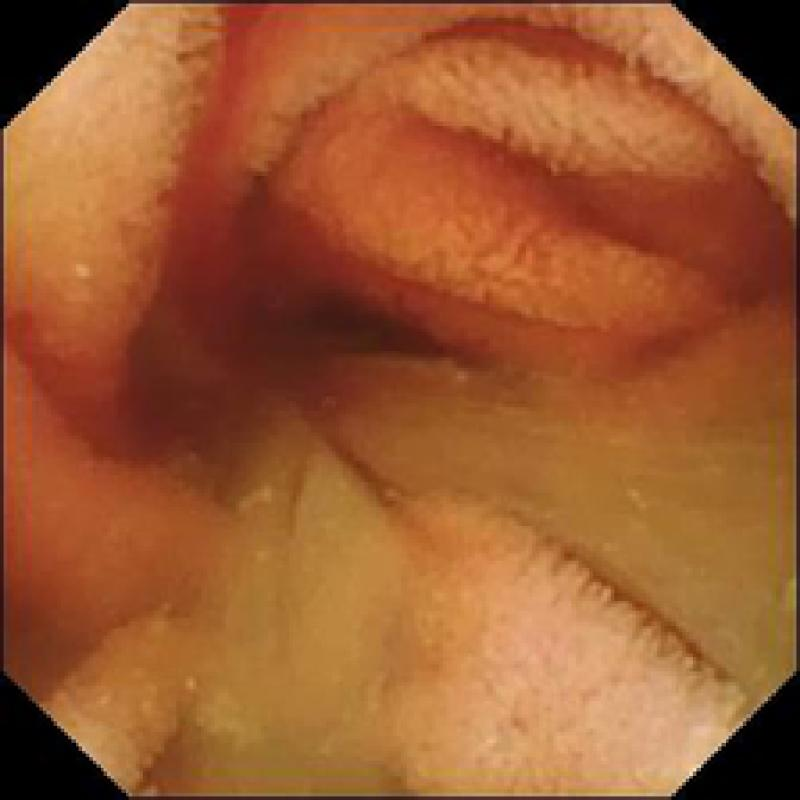bleeding: (29, 0, 789, 500)
